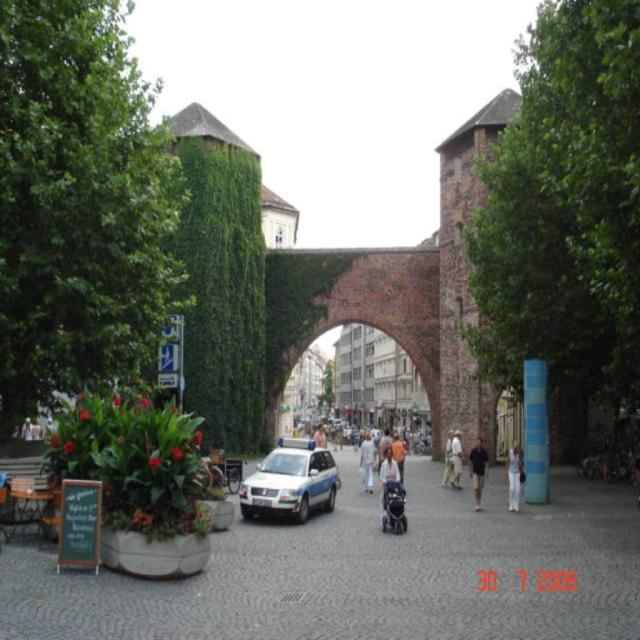car: (238, 435, 337, 519)
